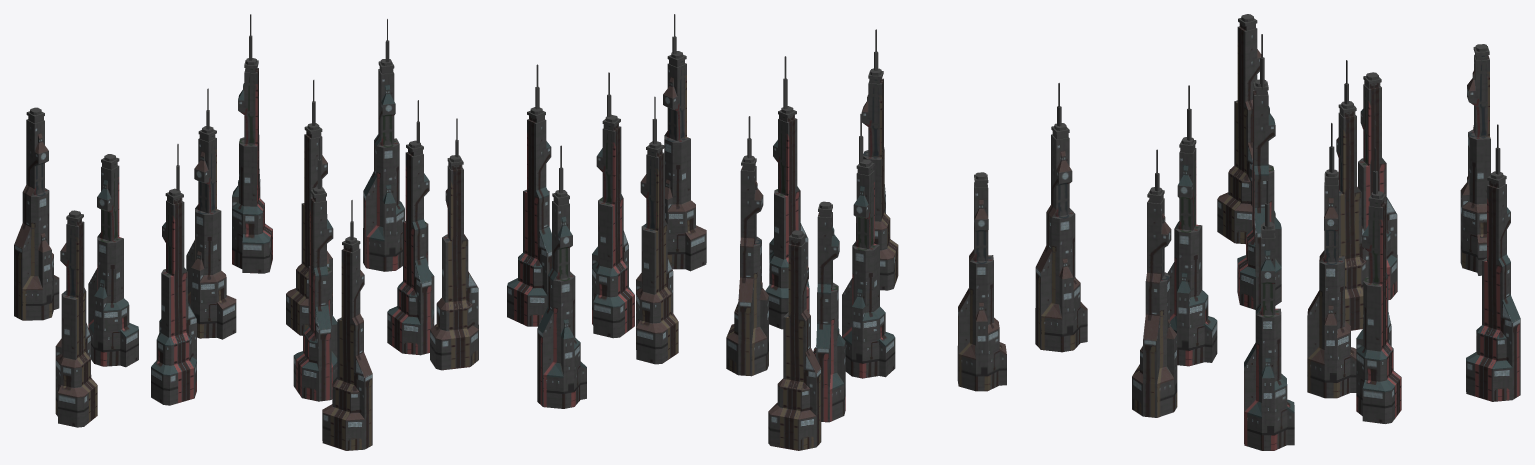
File: Backdrop_Far_A.fbx
3 renders of one model, left to right at view 1: azimuth 30°, elevation 25°; view 2: azimuth 150°, elevation 25°; view 3: azimuth 270°, elevation 25°, orthographic. The views are drawn at different scales.
Parts seen in each view (by area): view 1: SM_ENV_AMVLLG02_Backdrop_Far_A.mo; view 2: SM_ENV_AMVLLG02_Backdrop_Far_A.mo; view 3: SM_ENV_AMVLLG02_Backdrop_Far_A.mo.
Boxes of the visible parts, x1,y1,x2,y2 form: SM_ENV_AMVLLG02_Backdrop_Far_A.mo: [14, 14, 478, 450]; SM_ENV_AMVLLG02_Backdrop_Far_A.mo: [507, 14, 1006, 450]; SM_ENV_AMVLLG02_Backdrop_Far_A.mo: [1035, 14, 1520, 450].
Bounding box in the file's own units: 20177 × 13176 × 18894.
